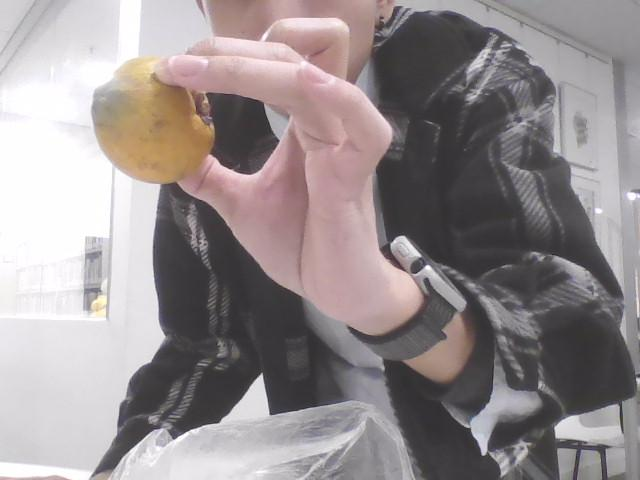lemon: (90, 56, 215, 184)
